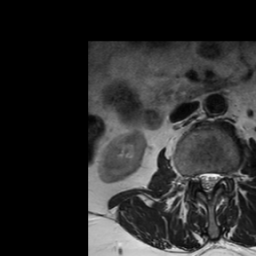CCS_normal: (203, 164, 211, 206)
LFS_stenosis: (220, 166, 228, 188)
LLS_normal: (211, 165, 220, 194)
RFS_stenosis: (188, 165, 196, 191)
RLS_stenosis: (196, 166, 203, 191)
